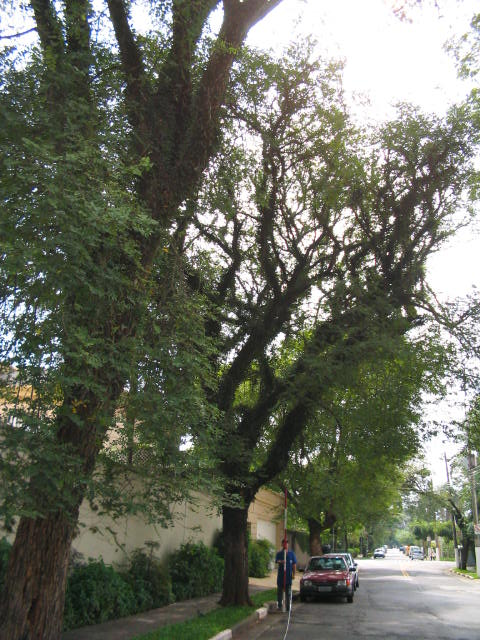stem: (204, 477, 271, 606)
stick: (277, 485, 291, 612)
tree: (143, 43, 479, 607)
